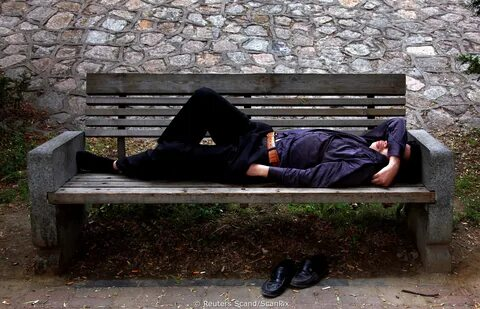sleep: (73, 114, 424, 189)
